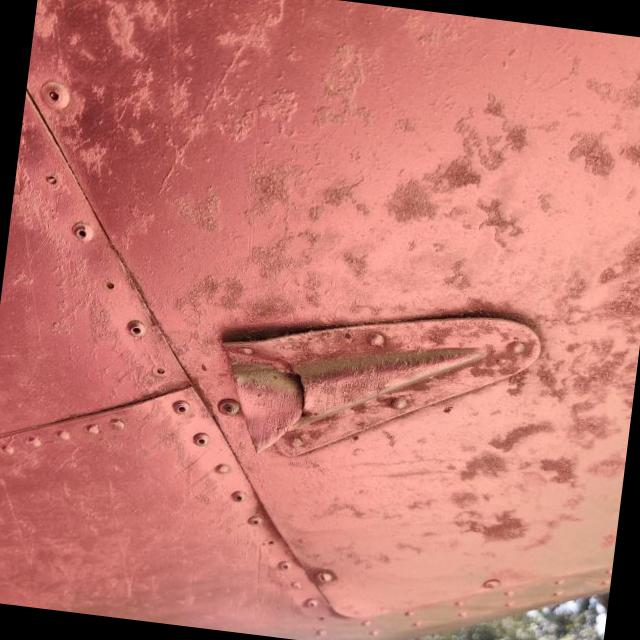Crack: (279, 361, 322, 427)
